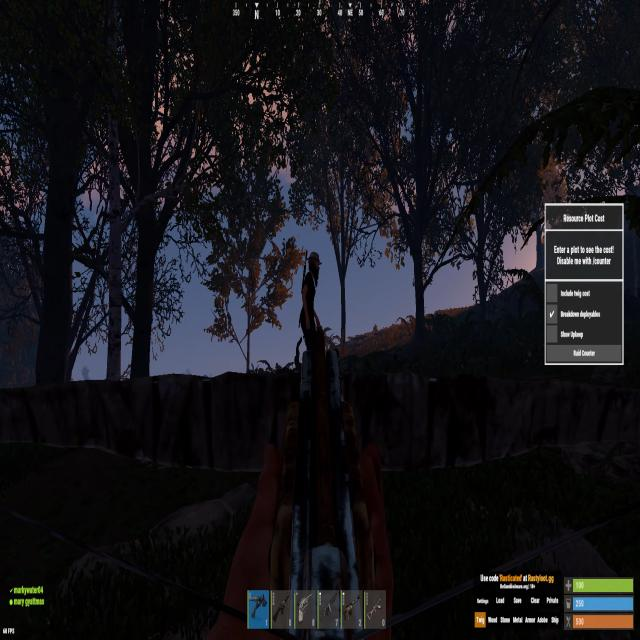Player: (298, 250, 322, 359)
